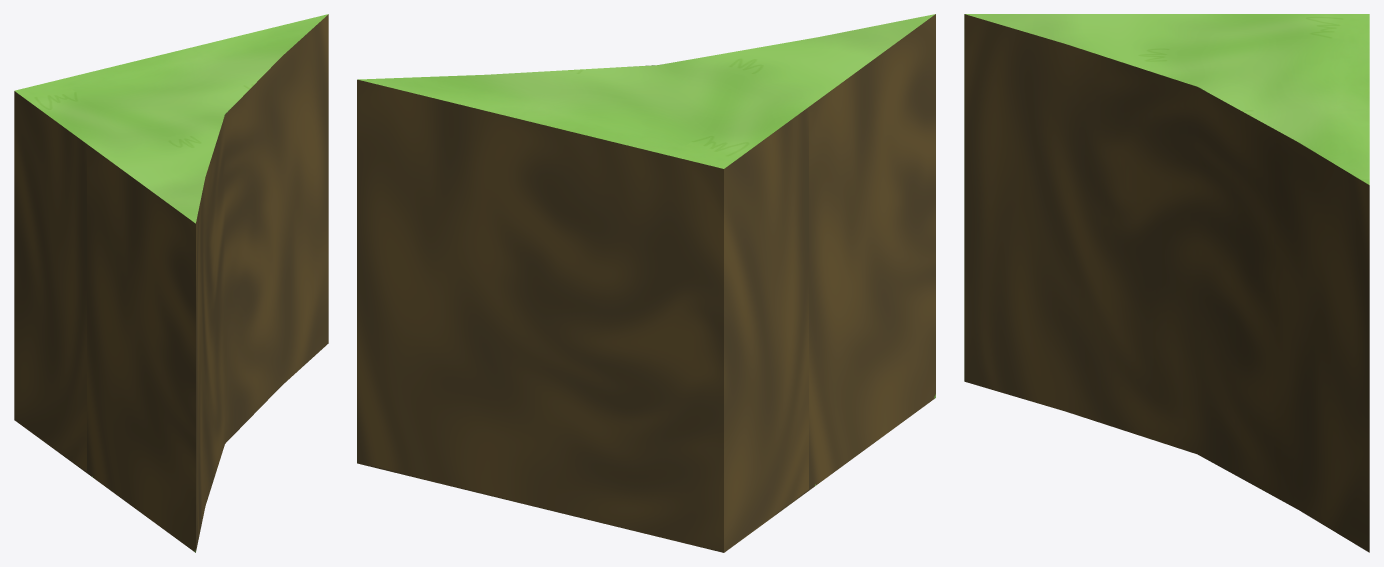
Rendered from WaterWallCorners.fbx.
3 views of the same model, side by side, from view 1: azimuth 30°, elevation 25°; view 2: azimuth 150°, elevation 25°; view 3: azimuth 270°, elevation 25° (orthographic). The views are drawn at different scales.
Visible parts, largest first — view 1: Corner; view 2: Corner; view 3: Corner.
Part boxes in pixels (left/top/right/bottom): Corner: left=14, top=14, right=328, bottom=552; Corner: left=357, top=14, right=935, bottom=552; Corner: left=964, top=14, right=1369, bottom=552.
Bounding box in the file's own units: 200 × 200 × 200.
Materials: 1 (1 with a texture image).
